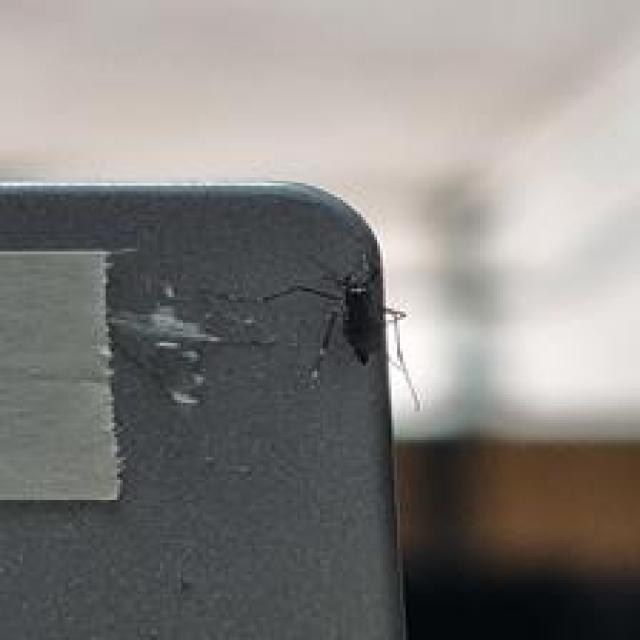Aedes albopictus: (0, 177, 420, 640)
